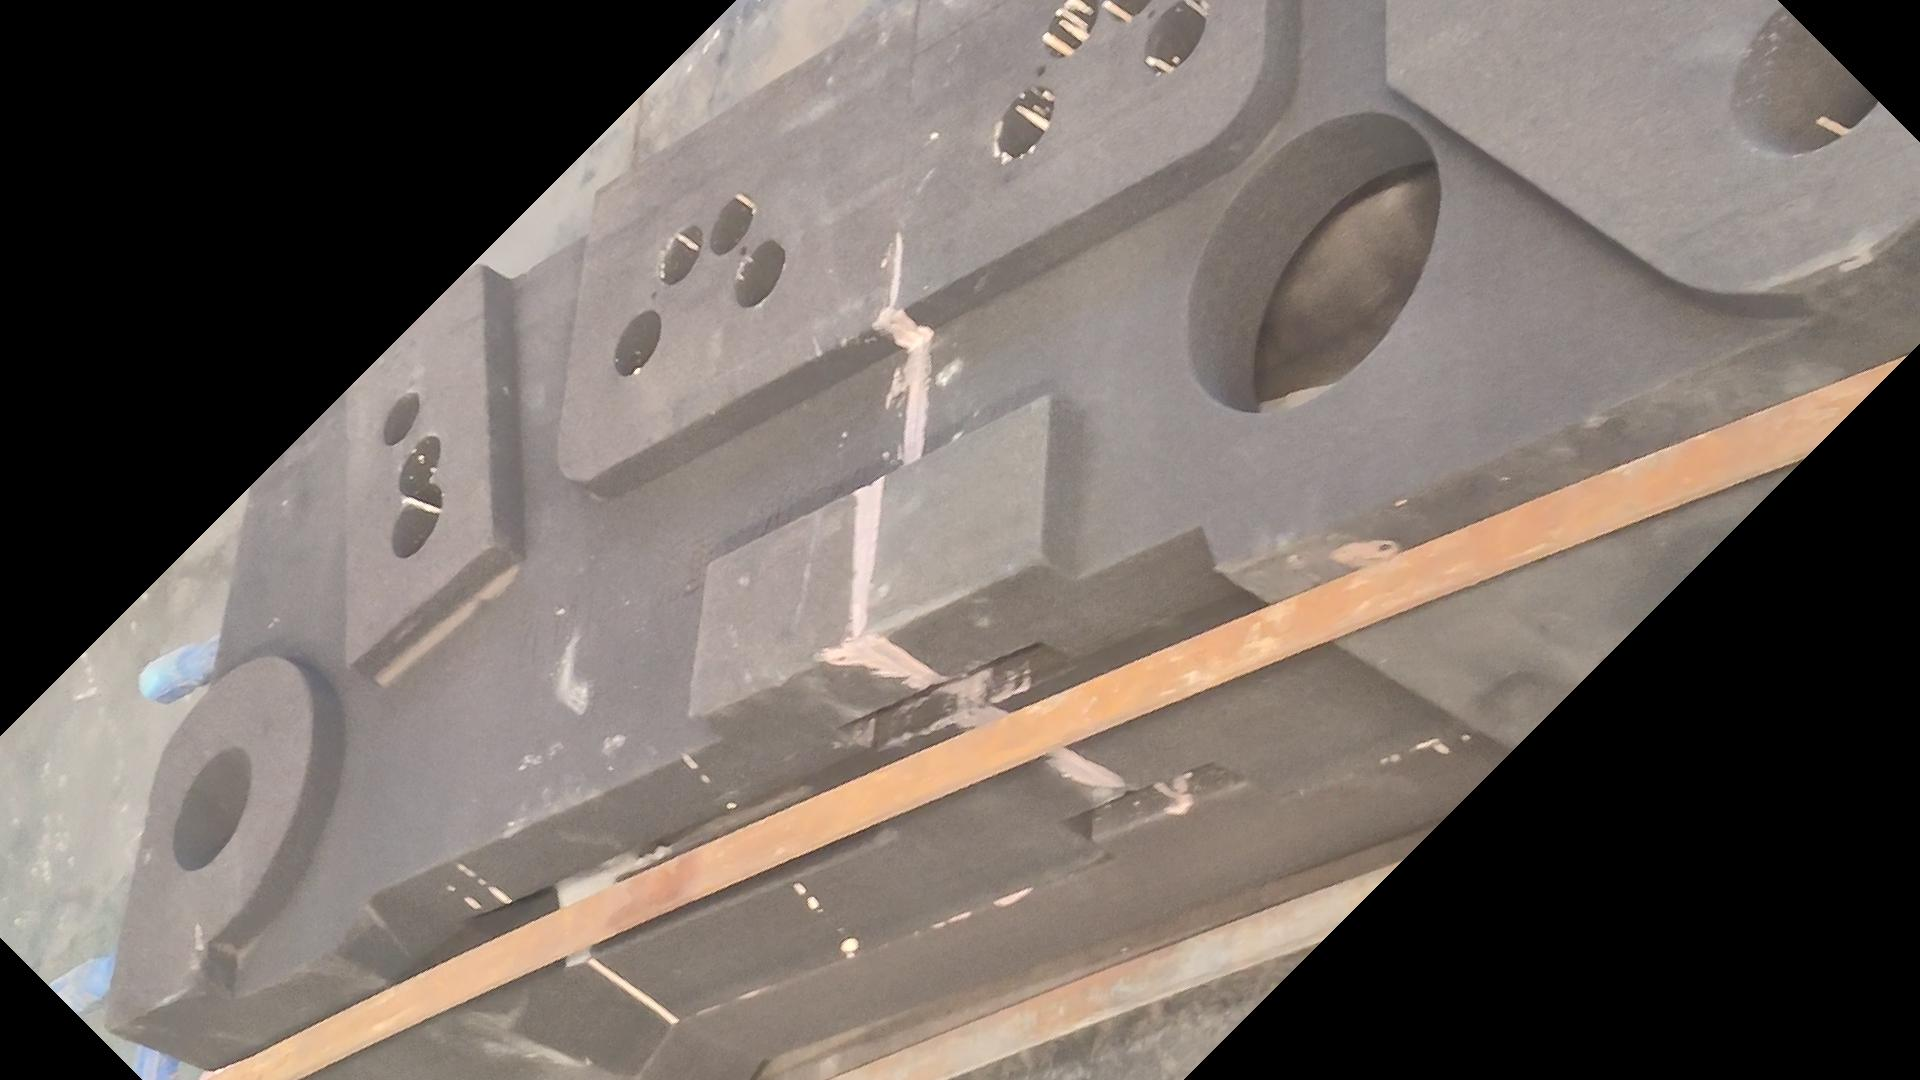pouring hole: (1729, 4, 1880, 156), (171, 745, 251, 870)
